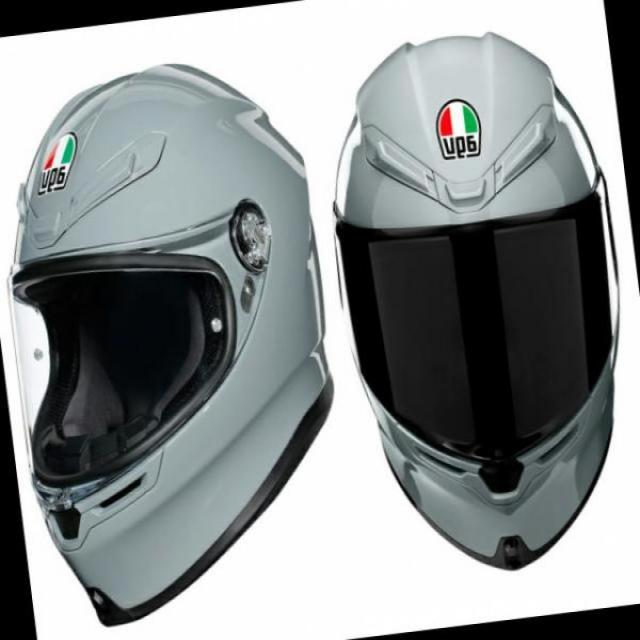Helmet: (9, 90, 328, 522), (307, 26, 329, 54)
